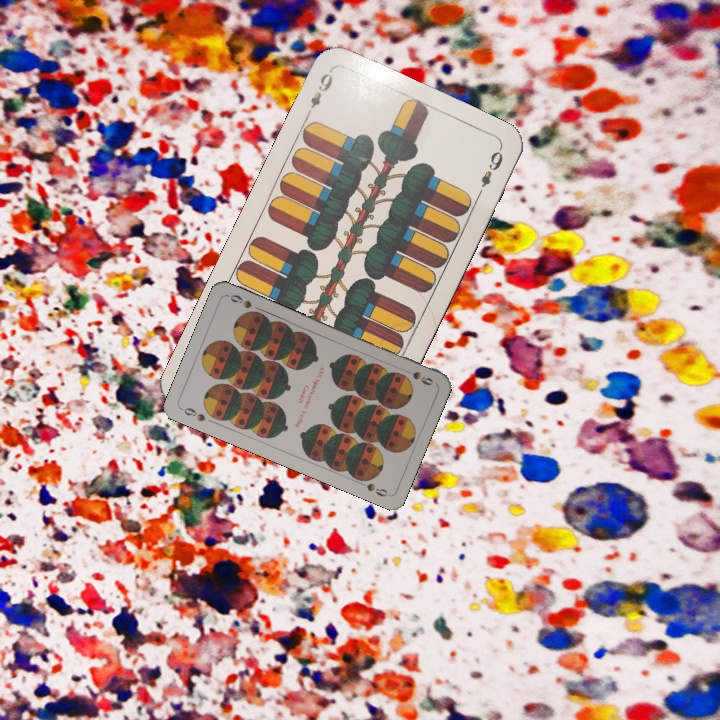E9: (302, 65, 336, 120)
S9: (398, 365, 436, 388), (177, 403, 208, 424)
